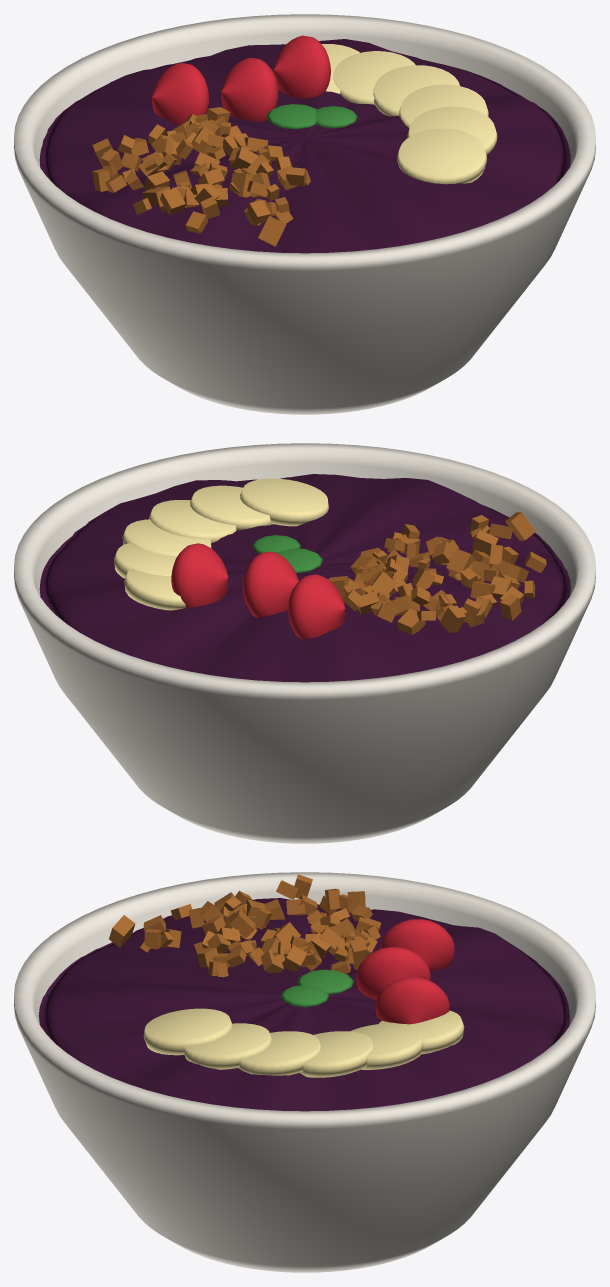
File: acai.glb
The picture shows the model from 3 angles, top to bottom: view 1: azimuth 30°, elevation 25°; view 2: azimuth 150°, elevation 25°; view 3: azimuth 270°, elevation 25°; orthographic projection.
Visible parts, largest first — view 1: tigela, acai, granola, banana, morango, folha; view 2: tigela, acai, granola, banana, morango, folha; view 3: tigela, acai, banana, granola, morango, folha.
Part boxes in pixels (left/top/right/bottom): tigela: left=14, top=14, right=595, bottom=414; acai: left=39, top=39, right=570, bottom=253; granola: left=92, top=107, right=310, bottom=246; banana: left=321, top=44, right=497, bottom=184; morango: left=152, top=35, right=330, bottom=124; folha: left=266, top=104, right=357, bottom=129; tigela: left=14, top=443, right=595, bottom=843; acai: left=39, top=474, right=570, bottom=682; granola: left=328, top=512, right=546, bottom=634; banana: left=114, top=478, right=328, bottom=610; morango: left=171, top=543, right=345, bottom=639; folha: left=252, top=535, right=322, bottom=573; tigela: left=14, top=872, right=595, bottom=1272; acai: left=38, top=898, right=569, bottom=1111; banana: left=143, top=1008, right=464, bottom=1077; granola: left=109, top=874, right=381, bottom=977; morango: left=356, top=919, right=454, bottom=1024; folha: left=280, top=969, right=353, bottom=1007.
Bounding box in the file's own units: 0.142 × 0.0691 × 0.142.
